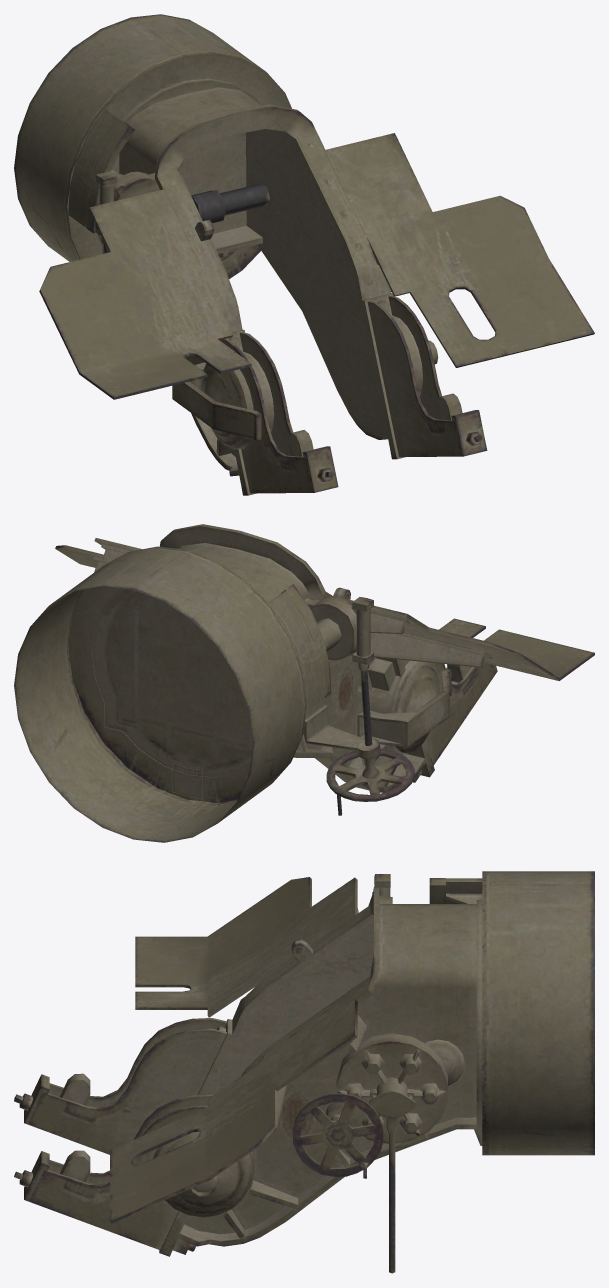
Rendered from Turret_02.glb.
3 renders of one model, top to bottom at view 1: azimuth 30°, elevation 25°; view 2: azimuth 150°, elevation 25°; view 3: azimuth 270°, elevation 25°, orthographic. The views are drawn at different scales.
Visible parts, largest first — view 1: set_0_group_0; view 2: set_0_group_0; view 3: set_0_group_0.
Part boxes in pixels (bbox=[...]): set_0_group_0: bbox=[14, 14, 594, 495]; set_0_group_0: bbox=[14, 524, 594, 842]; set_0_group_0: bbox=[14, 871, 594, 1273].
Size of the model in its own units: 2.17 by 1.37 by 2.2.
1 material, 1 textured.
